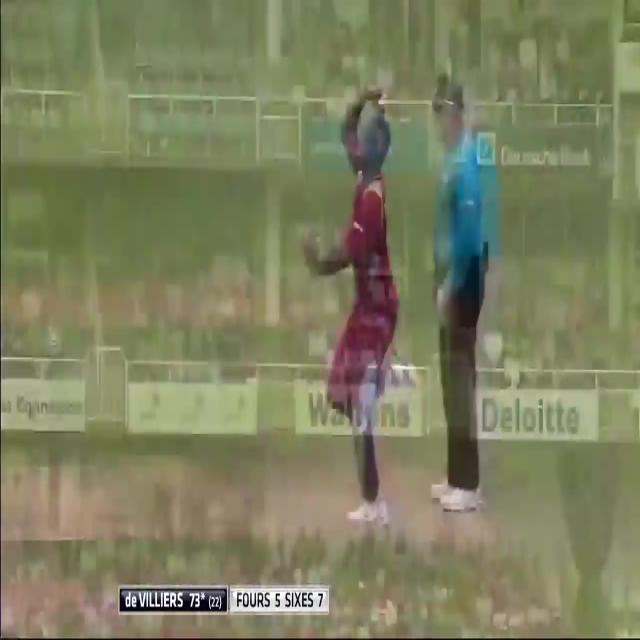Fielder: (300, 76, 412, 534)
Umpire: (422, 71, 508, 527)
